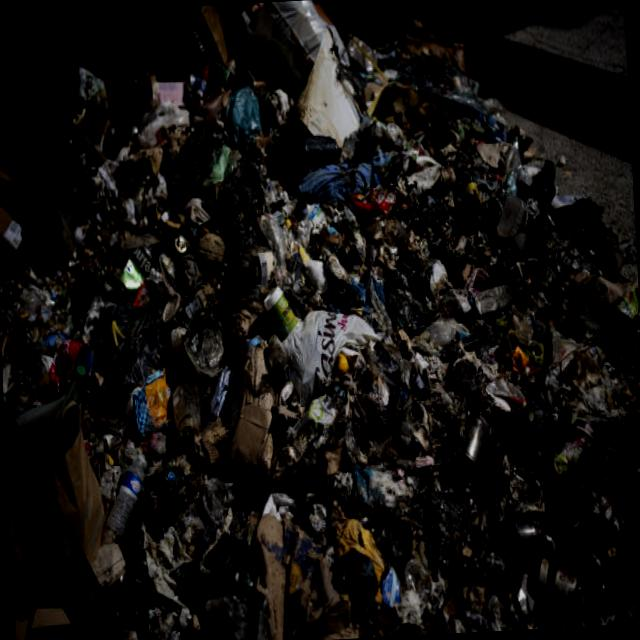garbage: (30, 18, 640, 640)
